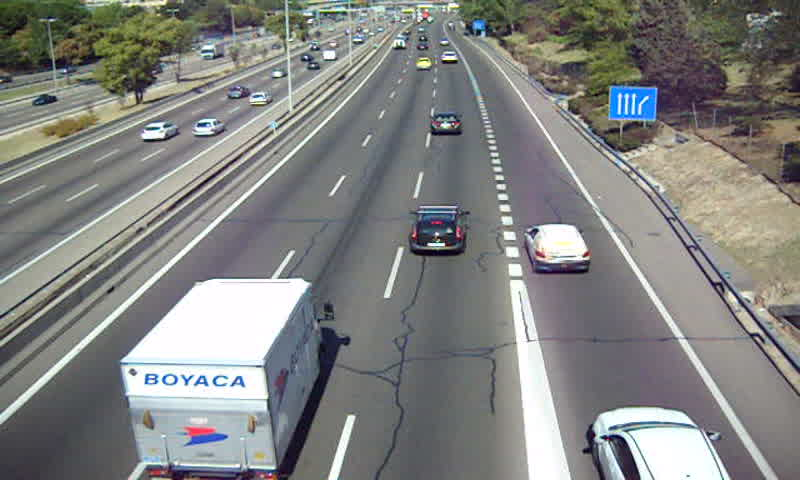car: (588, 407, 729, 480), (524, 223, 590, 272), (409, 204, 464, 254), (429, 111, 462, 134), (415, 56, 432, 72), (440, 50, 459, 64)
small-truck: (121, 276, 322, 480)
